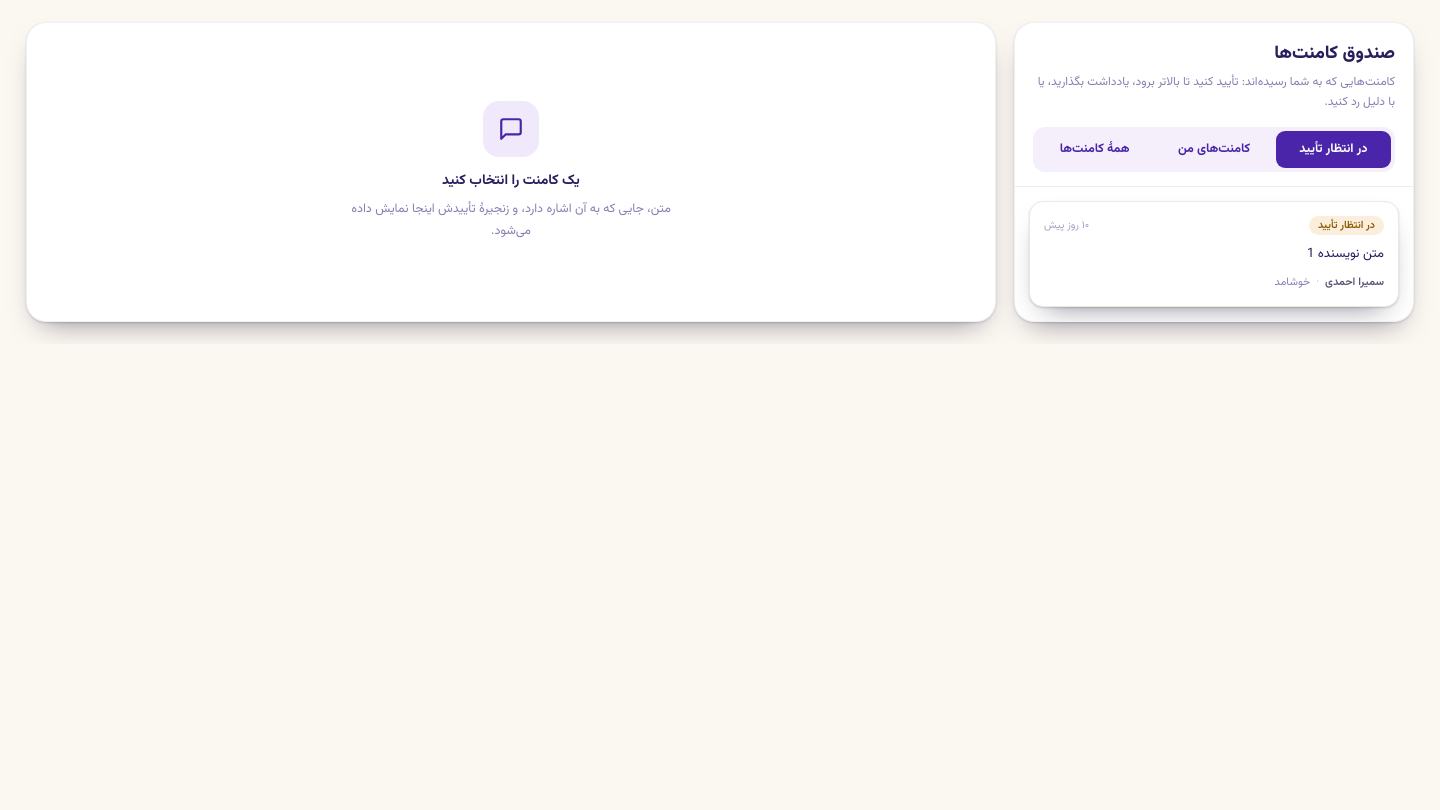
Test: panel inbox › selects a comment from the list into ?c= and reads the pool hop as «ادمین‌ها»
Click the text "متن نویسنده 1".
click(1345, 254)  # box [1307,244,1384,264]
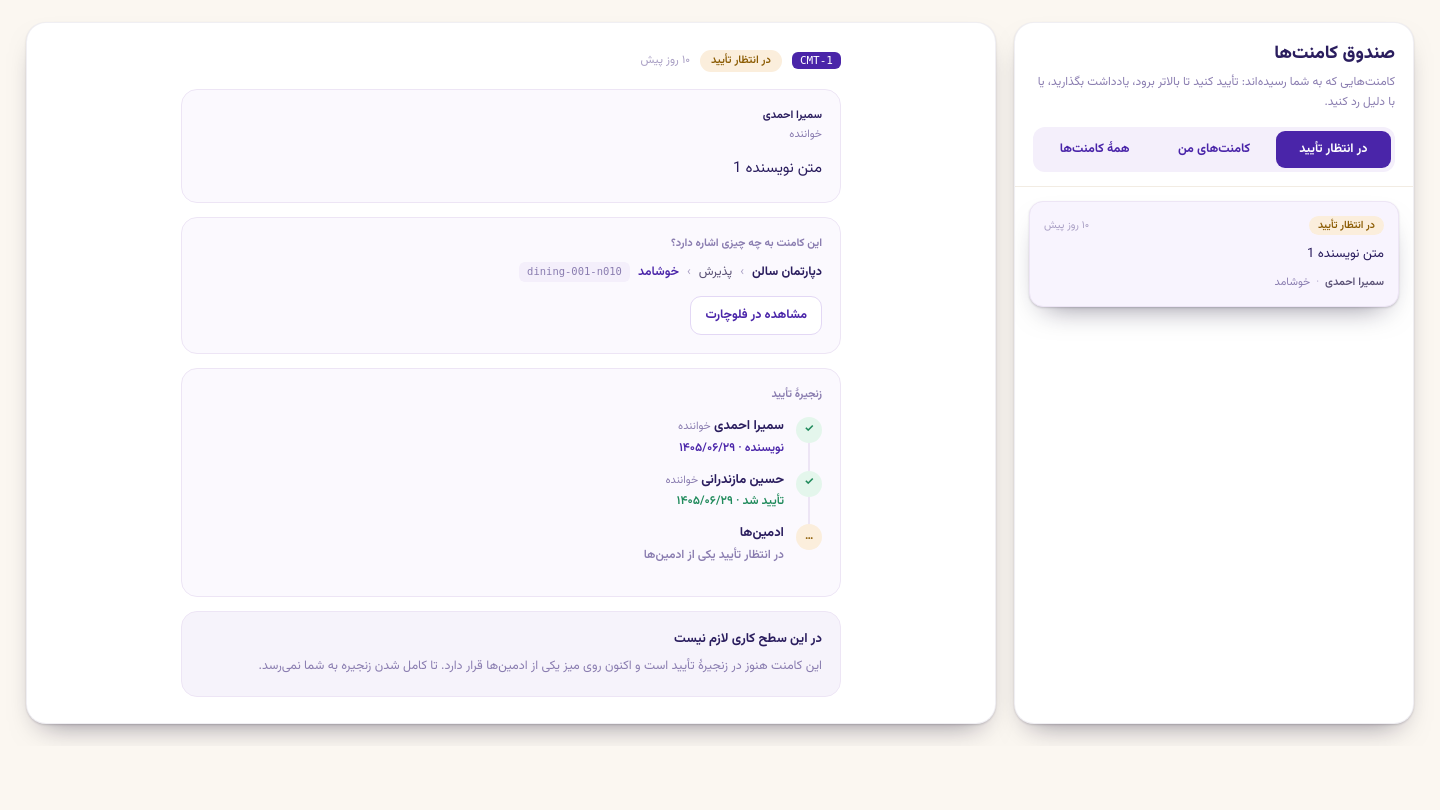
Expected: the text "ادمین‌ها" is shown, [740,523,784,543]
Expected: the text "در انتظار تأیید یکی از ادمین‌ها" is shown, [644,546,784,564]
Expected: the 2nd text "سمیرا احمدی" is shown, [714,416,784,436]
